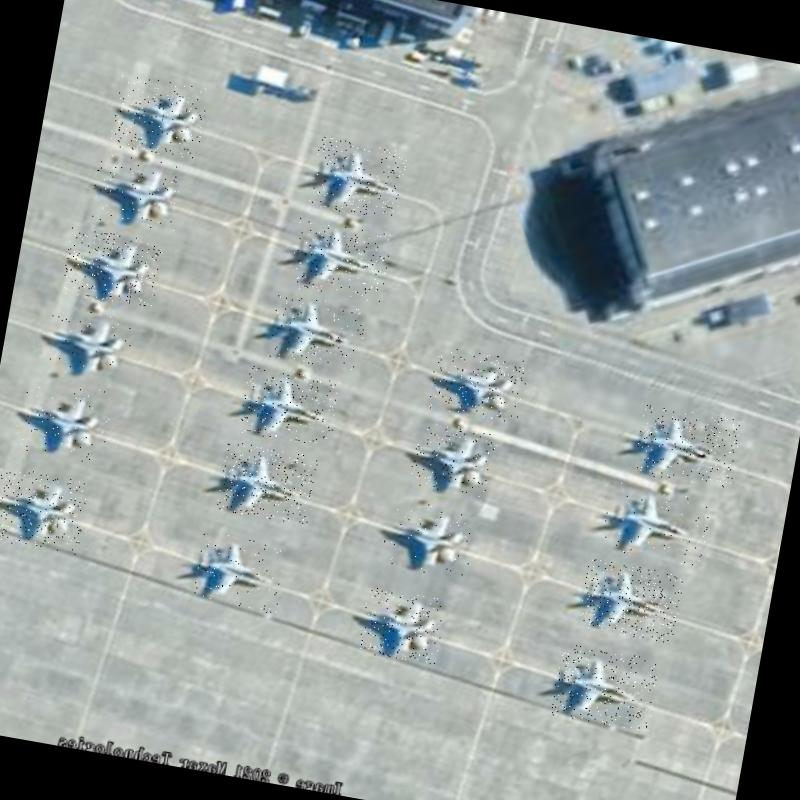A16: (600, 480, 713, 568), (550, 643, 660, 732), (10, 376, 114, 467), (632, 404, 742, 490), (577, 558, 685, 644), (264, 290, 372, 374), (288, 218, 393, 303), (216, 441, 319, 526), (109, 74, 209, 161), (61, 226, 164, 310), (237, 366, 341, 449), (308, 136, 408, 222), (190, 530, 289, 615), (87, 151, 186, 234), (378, 498, 478, 580), (427, 345, 530, 424), (0, 465, 90, 555), (42, 303, 136, 384), (356, 586, 446, 666), (408, 420, 499, 498)
